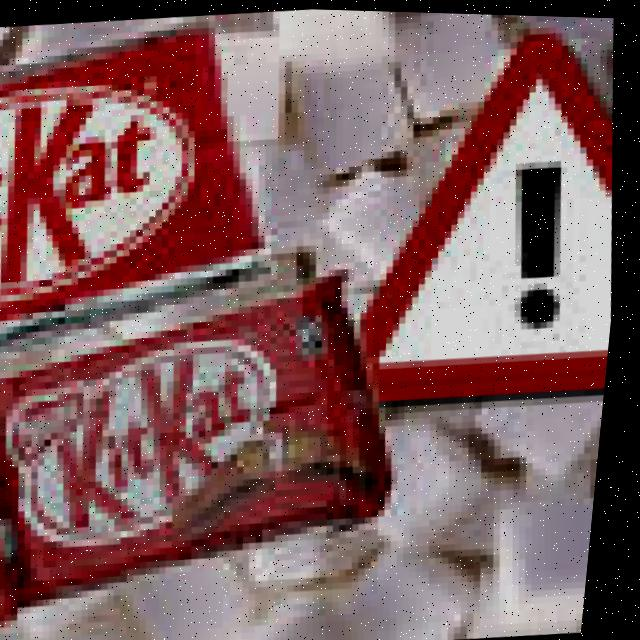kitkat: (0, 256, 424, 626)
